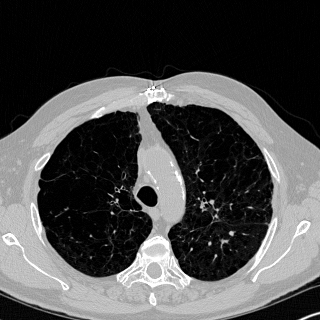nodule: (229, 231, 233, 235)
